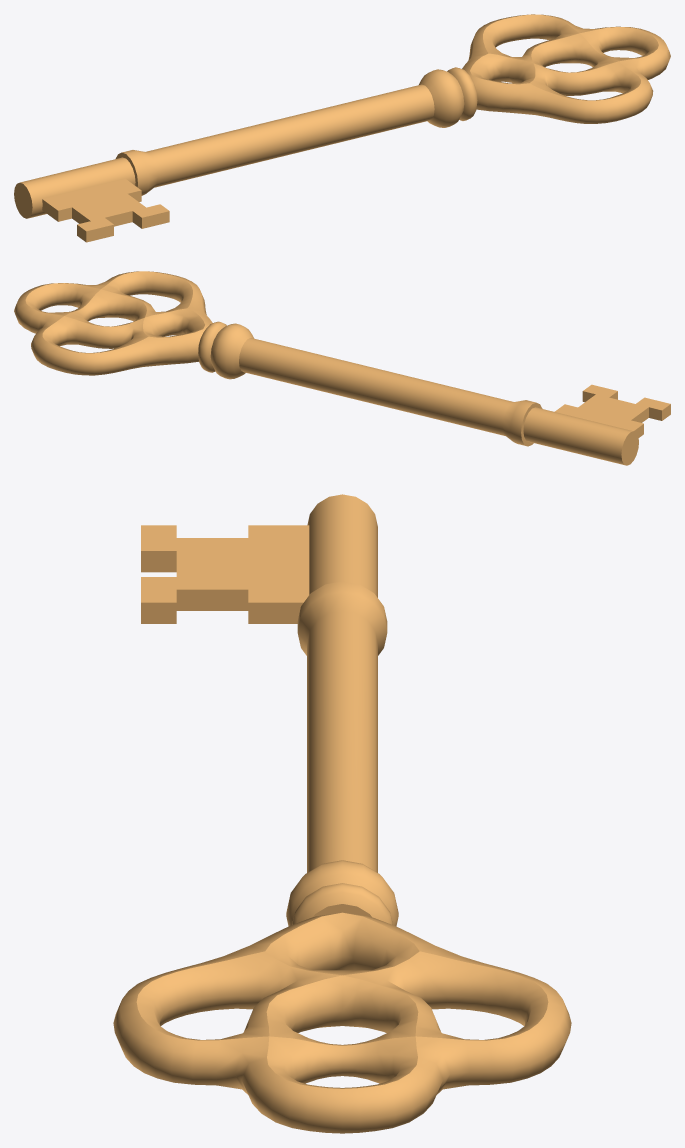
The model's file is key.fbx.
3 views of the same model, one above another, from view 1: azimuth 30°, elevation 25°; view 2: azimuth 150°, elevation 25°; view 3: azimuth 270°, elevation 25° (orthographic). The views are drawn at different scales.
Parts seen in each view (by area): view 1: key 3; view 2: key 3; view 3: key 3.
Part boxes in pixels (left/top/right/bottom): key 3: left=14, top=14, right=670, bottom=242; key 3: left=14, top=271, right=670, bottom=465; key 3: left=113, top=494, right=571, bottom=1133.
Size of the model in its own units: 31.88 by 2.54 by 10.39.
